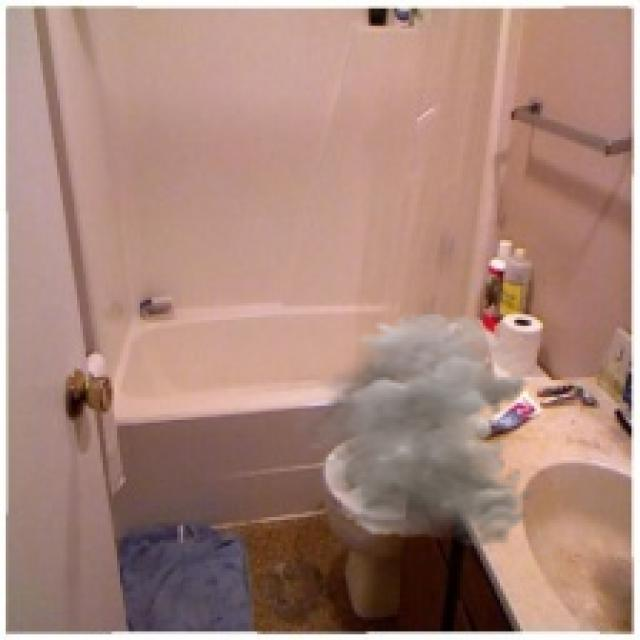smoke: (292, 312, 534, 548)
